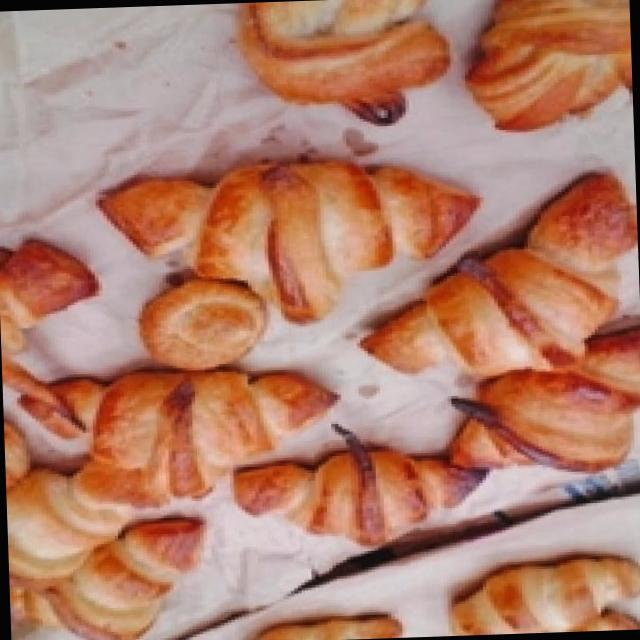Croissant: (80, 143, 488, 336)
